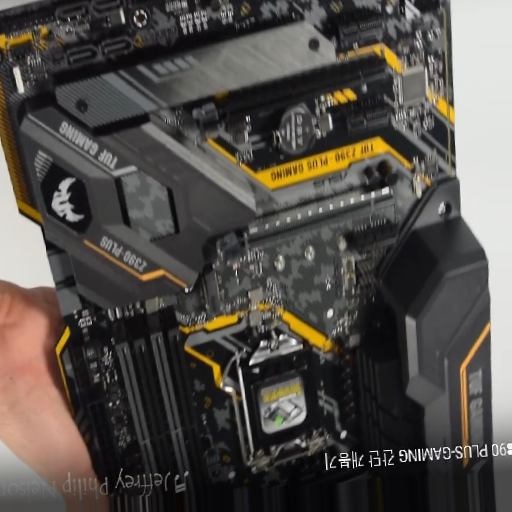CPU: (231, 332, 329, 471)
GPU: (195, 53, 390, 131), (215, 181, 396, 260)
MOTHERBOARD: (2, 1, 512, 482)
RAM: (113, 306, 211, 485)
SSD: (196, 268, 221, 315)
